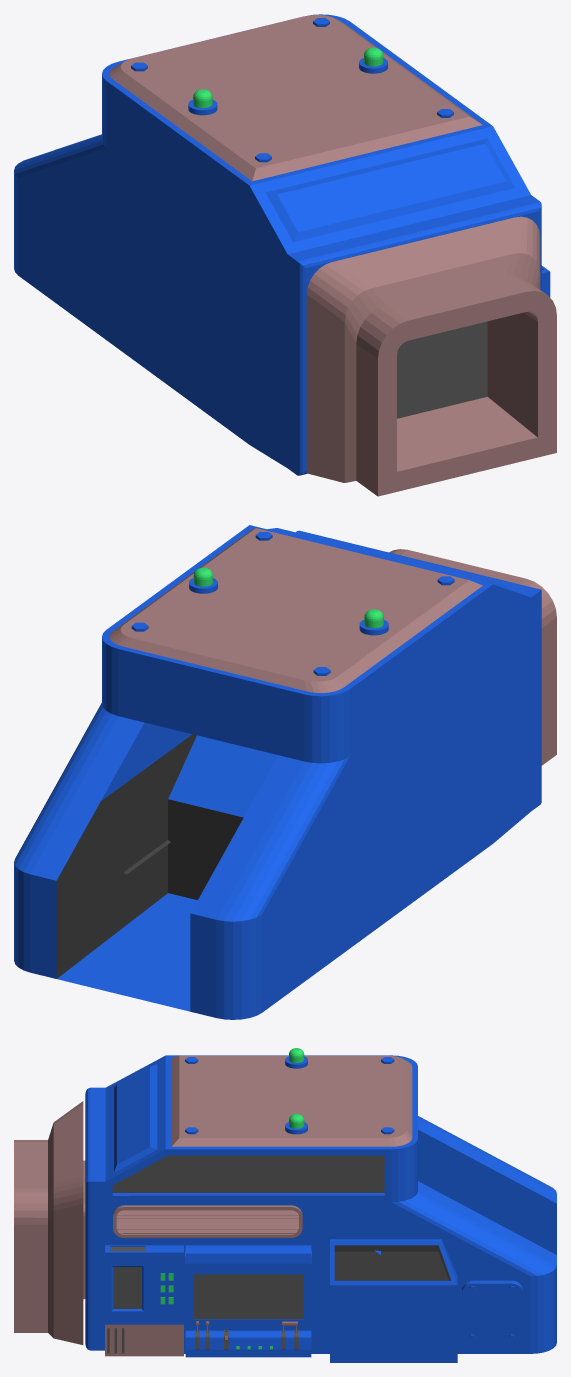
File: Stanok_doska.fbx
3 views of the same model, one above another, from view 1: azimuth 30°, elevation 25°; view 2: azimuth 150°, elevation 25°; view 3: azimuth 270°, elevation 25° (orthographic). The views are drawn at different scales.
Parts seen in each view (by area): view 1: Cube_026; view 2: Cube_026; view 3: Cube_026.
Part boxes in pixels (x1=…): Cube_026: x1=14, y1=14, x2=556, y2=496; Cube_026: x1=14, y1=525, x2=556, y2=1019; Cube_026: x1=14, y1=1048, x2=556, y2=1362.
Size of the model in its own units: 183 by 185 by 405.
